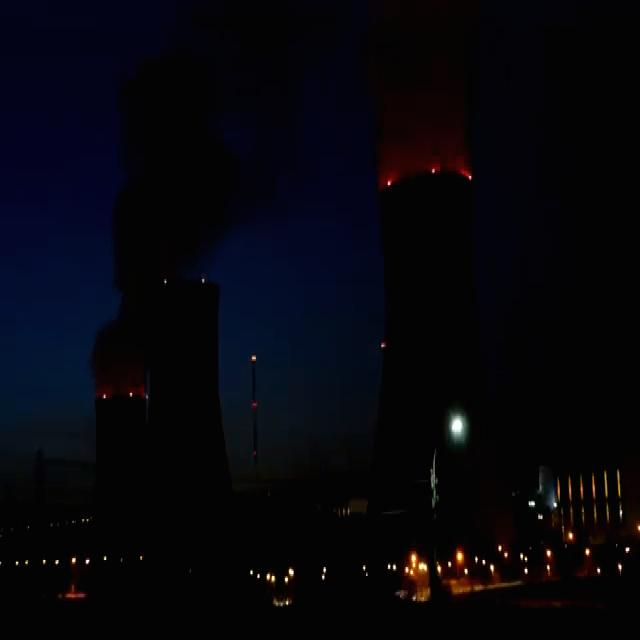smoke: (94, 30, 294, 396), (367, 0, 476, 192)
